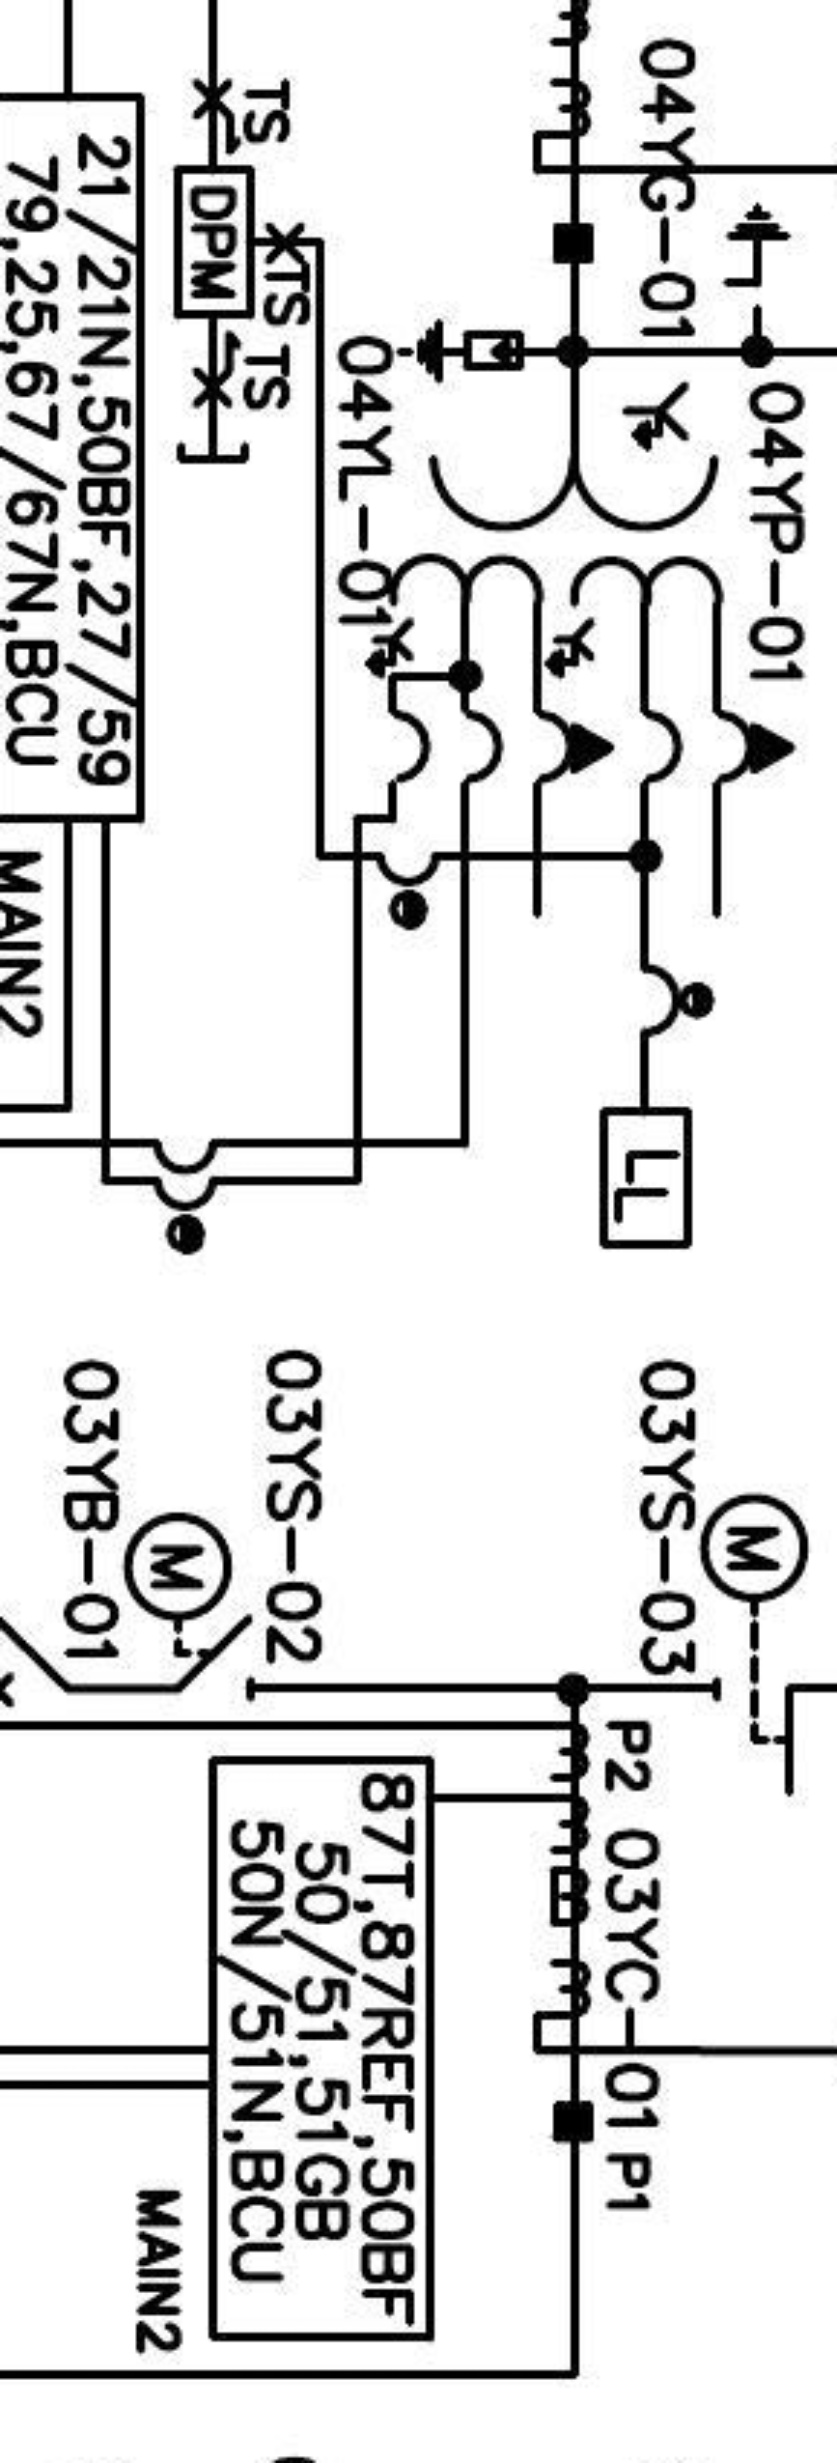115_1way_ds_w_motor: (698, 1490, 811, 1799), (121, 1511, 256, 1704)
115_gs: (720, 198, 794, 317)
115_la: (393, 315, 525, 386)
115_vt_3p: (363, 378, 798, 787)
DPM: (172, 163, 255, 318)
LL: (598, 1104, 694, 1250)
